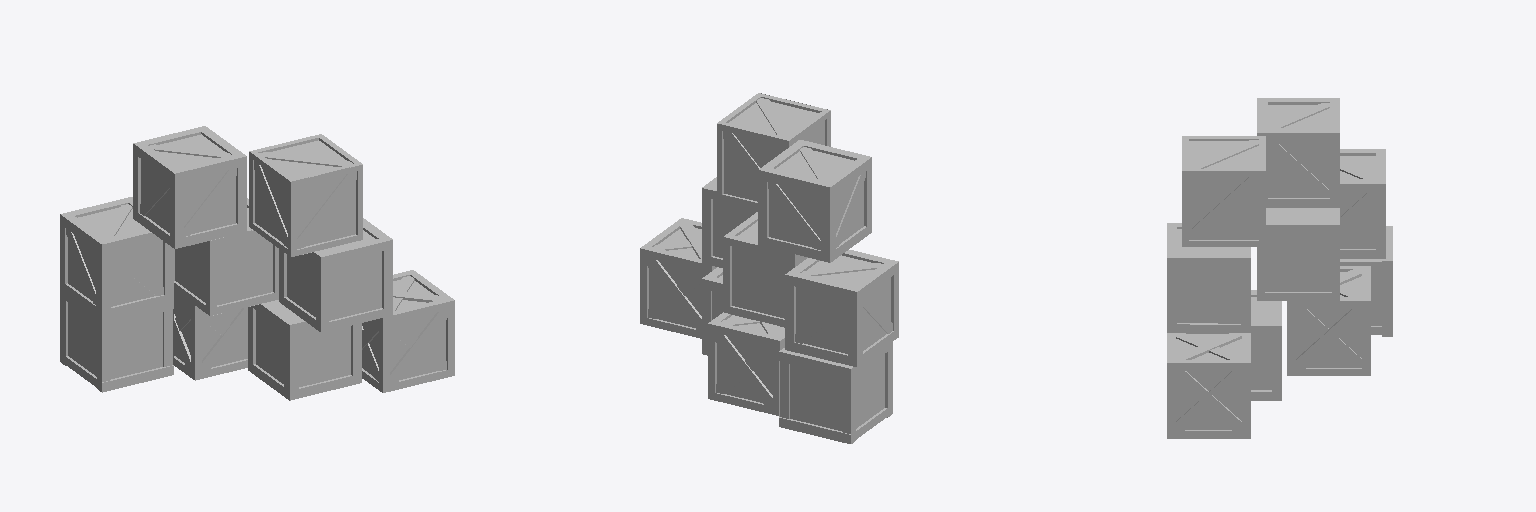
The model's file is wooden boxes pack.obj.
3 views of the same model, side by side, from view 1: azimuth 30°, elevation 25°; view 2: azimuth 150°, elevation 25°; view 3: azimuth 270°, elevation 25° (orthographic).
Visible parts, largest first — view 1: Mesh1 Group1 Model, Mesh3 Group3 Model, Mesh9 Group9 Model, Mesh8 Group8 Model, Mesh7 Group7 Model, Mesh6 Group6 Model, Mesh4 Group4 Model, Mesh2 Group2 Model, Mesh5 Group5 Model; view 2: Mesh3 Group3 Model, Mesh9 Group9 Model, Mesh4 Group4 Model, Mesh1 Group1 Model, Mesh7 Group7 Model, Mesh5 Group5 Model, Mesh2 Group2 Model, Mesh8 Group8 Model, Mesh6 Group6 Model; view 3: Mesh1 Group1 Model, Mesh7 Group7 Model, Mesh3 Group3 Model, Mesh8 Group8 Model, Mesh5 Group5 Model, Mesh2 Group2 Model, Mesh9 Group9 Model, Mesh6 Group6 Model, Mesh4 Group4 Model.
Part boxes in pixels (left/top/right/bottom): Mesh1 Group1 Model: left=249, top=134, right=362, bottom=256; Mesh3 Group3 Model: left=133, top=126, right=246, bottom=248; Mesh9 Group9 Model: left=60, top=197, right=173, bottom=319; Mesh8 Group8 Model: left=279, top=218, right=392, bottom=332; Mesh7 Group7 Model: left=362, top=270, right=454, bottom=392; Mesh6 Group6 Model: left=248, top=300, right=361, bottom=400; Mesh4 Group4 Model: left=60, top=290, right=173, bottom=392; Mesh2 Group2 Model: left=174, top=198, right=278, bottom=315; Mesh5 Group5 Model: left=174, top=290, right=247, bottom=380; Mesh3 Group3 Model: left=758, top=140, right=871, bottom=262; Mesh9 Group9 Model: left=785, top=250, right=898, bottom=367; Mesh4 Group4 Model: left=779, top=342, right=892, bottom=443; Mesh1 Group1 Model: left=717, top=93, right=830, bottom=208; Mesh7 Group7 Model: left=640, top=218, right=716, bottom=338; Mesh5 Group5 Model: left=708, top=312, right=784, bottom=415; Mesh2 Group2 Model: left=723, top=212, right=807, bottom=327; Mesh8 Group8 Model: left=702, top=177, right=757, bottom=267; Mesh6 Group6 Model: left=702, top=267, right=722, bottom=355; Mesh1 Group1 Model: left=1182, top=136, right=1265, bottom=246; Mesh7 Group7 Model: left=1167, top=333, right=1250, bottom=438; Mesh3 Group3 Model: left=1257, top=98, right=1339, bottom=207; Mesh8 Group8 Model: left=1167, top=223, right=1250, bottom=332; Mesh5 Group5 Model: left=1287, top=266, right=1370, bottom=375; Mesh2 Group2 Model: left=1257, top=208, right=1339, bottom=300; Mesh9 Group9 Model: left=1340, top=149, right=1385, bottom=258; Mesh6 Group6 Model: left=1251, top=290, right=1281, bottom=400; Mesh4 Group4 Model: left=1340, top=226, right=1392, bottom=336.
Bounding box in the file's own units: 7.91 × 6 × 5.41.